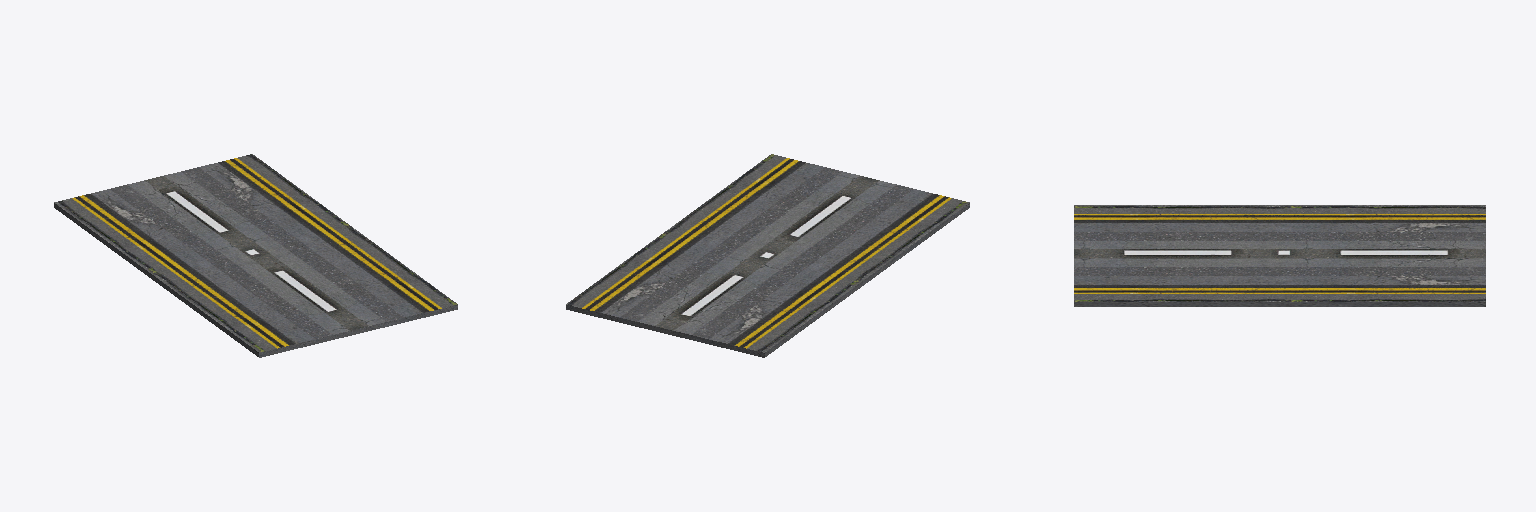
The picture shows the model from 3 angles: view 1: azimuth 30°, elevation 25°; view 2: azimuth 150°, elevation 25°; view 3: azimuth 270°, elevation 25°; orthographic projection.
Parts seen in each view (by area): view 1: old_road.001; view 2: old_road.001; view 3: old_road.001.
Boxes of the visible parts, <box> form: old_road.001: <box>54,154,457,357</box>; old_road.001: <box>566,154,969,357</box>; old_road.001: <box>1074,205,1485,306</box>.
Size of the model in its own units: 5.01 by 0.1211 by 8.98.
Materials: 1 (1 with a texture image).